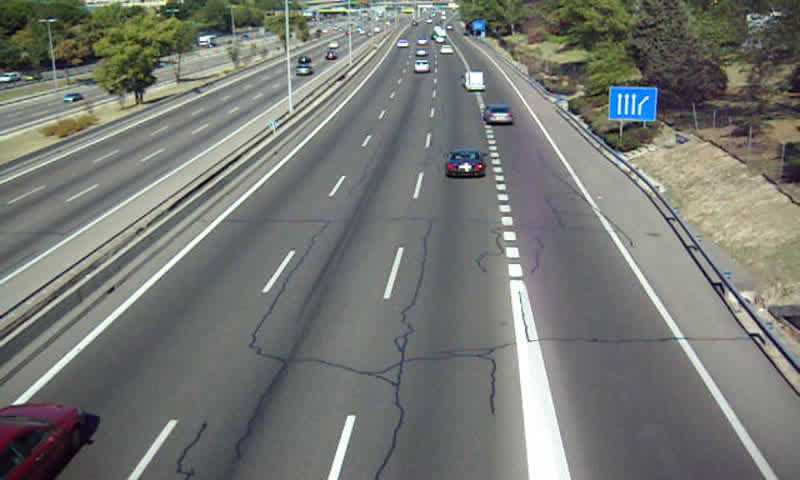car: (445, 151, 485, 177), (483, 105, 514, 126), (413, 60, 430, 72)
van: (464, 72, 485, 91)
